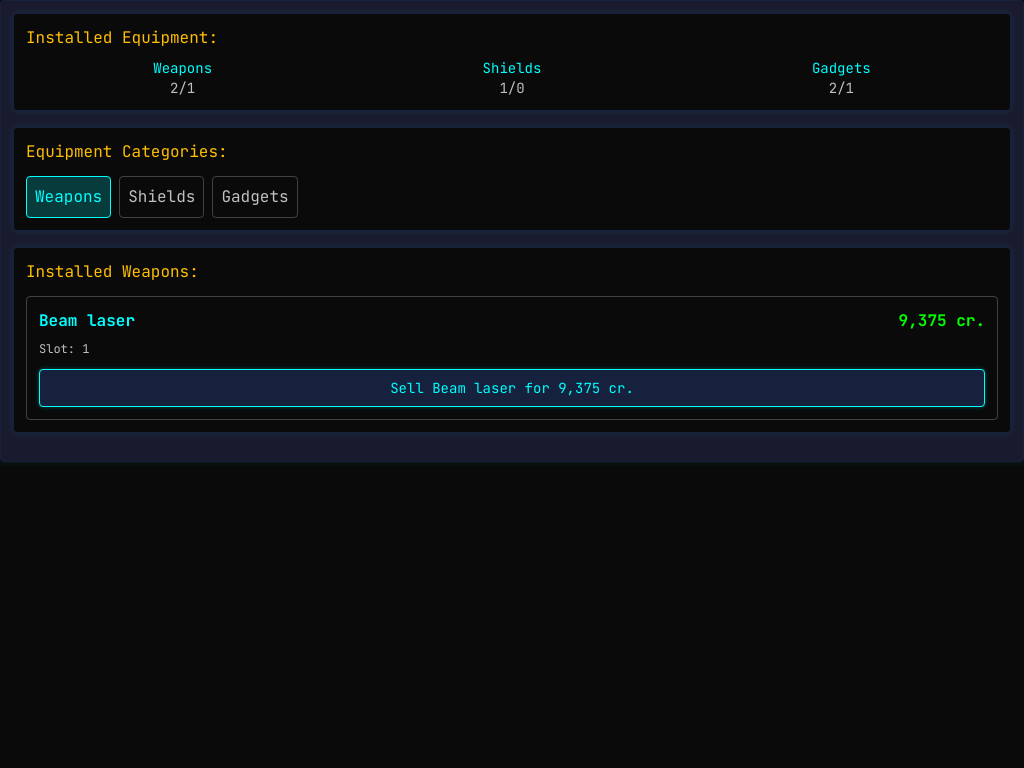
Test case: SellEquipmentScreen › should show error message after failed sale
This screenshot has width=1024, height=768.
Click the button "Sell Beam laser for 9,375 cr." at point(512, 388), box [39,369,985,407]
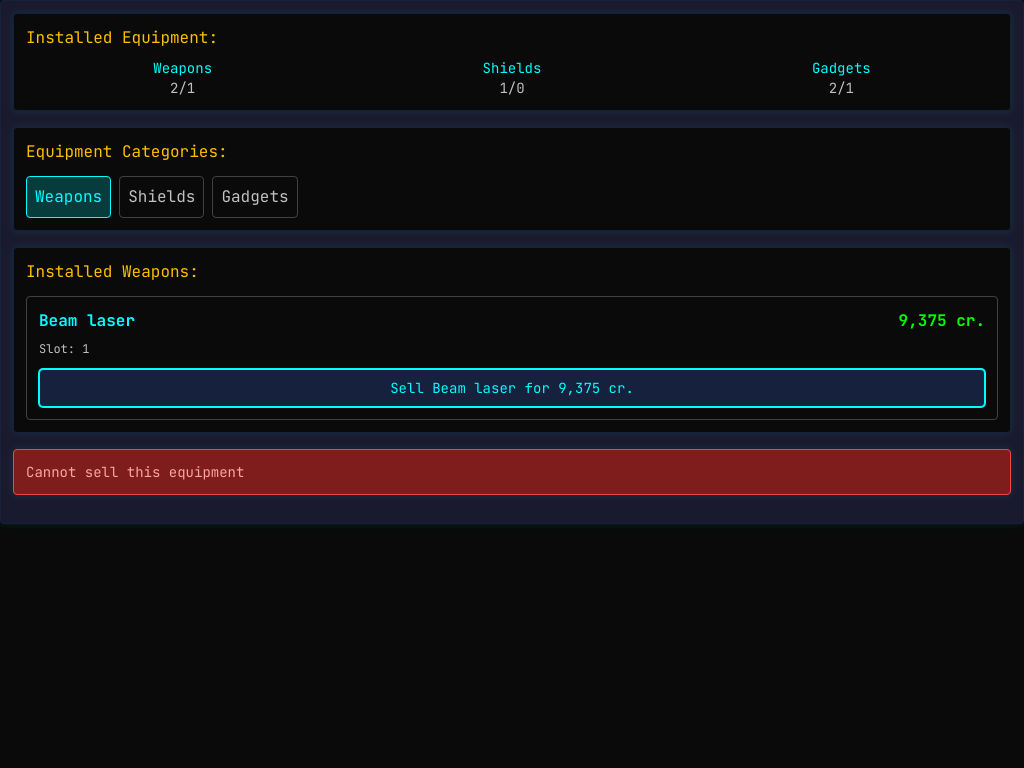
Now the text "Cannot sell this equipment" is shown, box [26,463,244,481]
